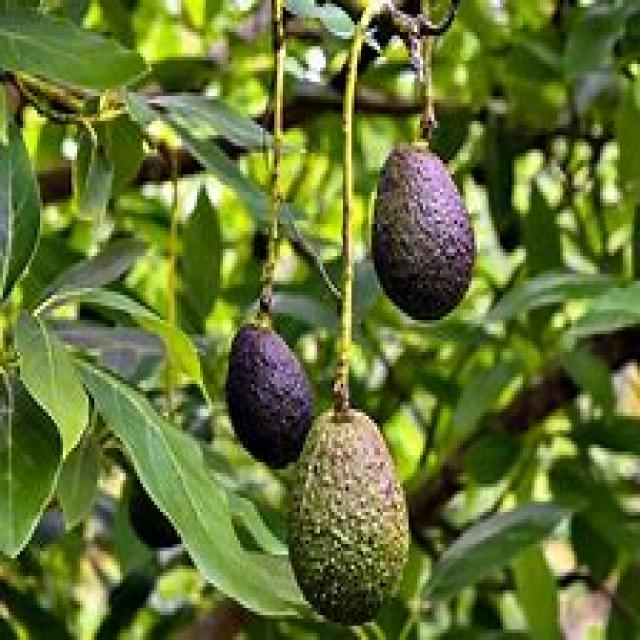Avocado: (292, 404, 418, 634), (367, 142, 482, 320), (228, 308, 313, 454)
